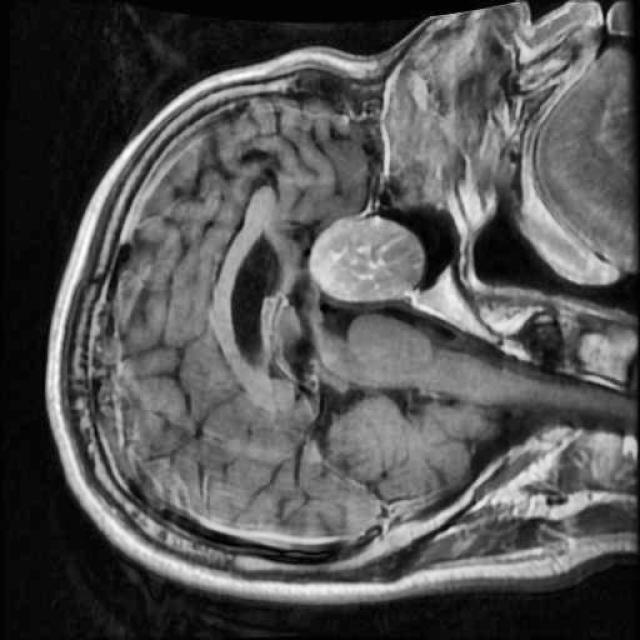Tumor: (298, 204, 432, 315)
